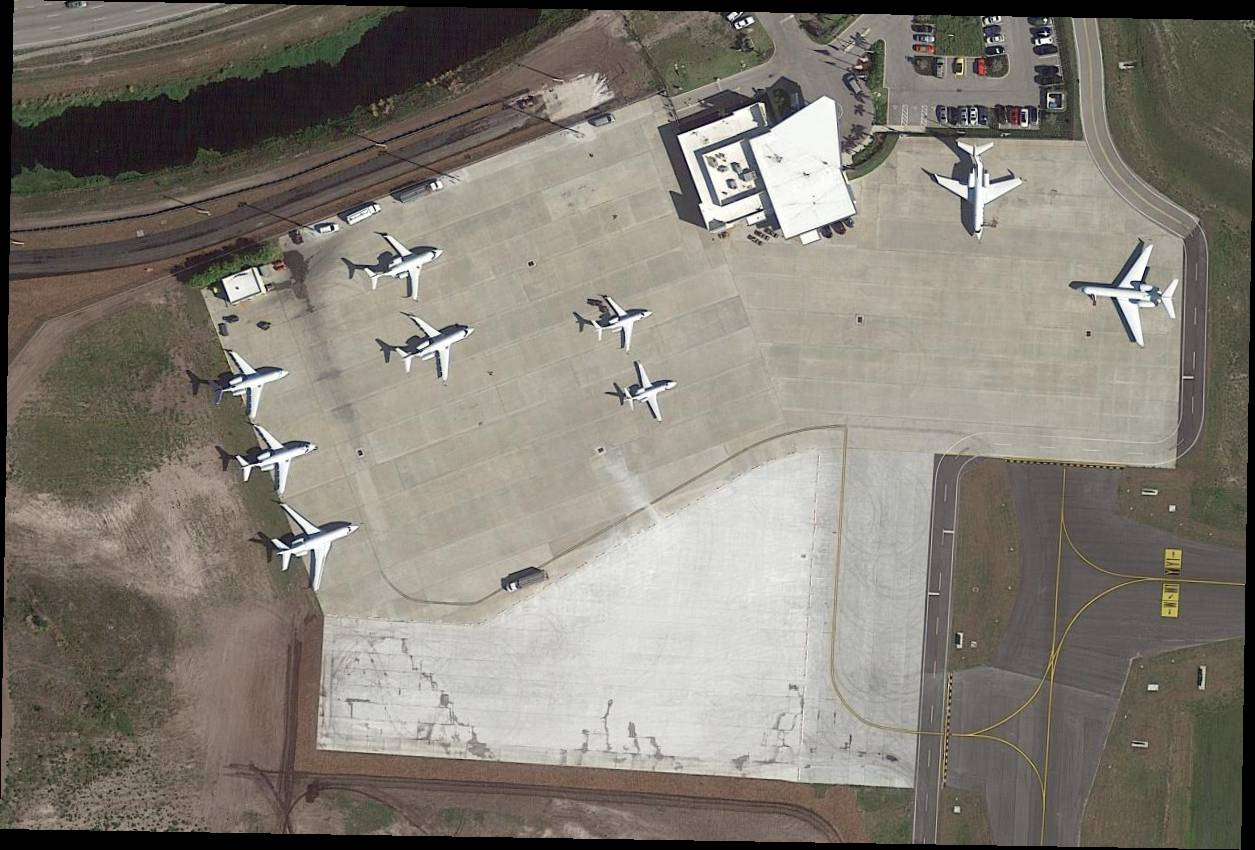large vehicle: (399, 181, 445, 206), (505, 570, 549, 595), (346, 203, 382, 227)
plane: (256, 483, 376, 603), (1078, 238, 1184, 355), (387, 293, 488, 395), (352, 218, 456, 316), (228, 410, 328, 506), (932, 142, 1024, 243), (200, 337, 299, 429), (585, 284, 663, 361), (615, 354, 688, 433)
small vehicle: (843, 70, 868, 98), (731, 13, 760, 34), (979, 13, 1005, 28), (1027, 105, 1043, 128), (936, 106, 952, 128), (1032, 35, 1057, 49), (968, 105, 983, 127), (909, 22, 934, 34), (913, 43, 935, 56), (913, 33, 936, 45), (933, 58, 945, 80), (954, 56, 966, 78), (1019, 107, 1031, 129), (983, 22, 1004, 34), (985, 34, 1009, 44), (1009, 106, 1020, 127), (960, 107, 971, 128), (976, 58, 988, 76), (1032, 25, 1052, 35)
